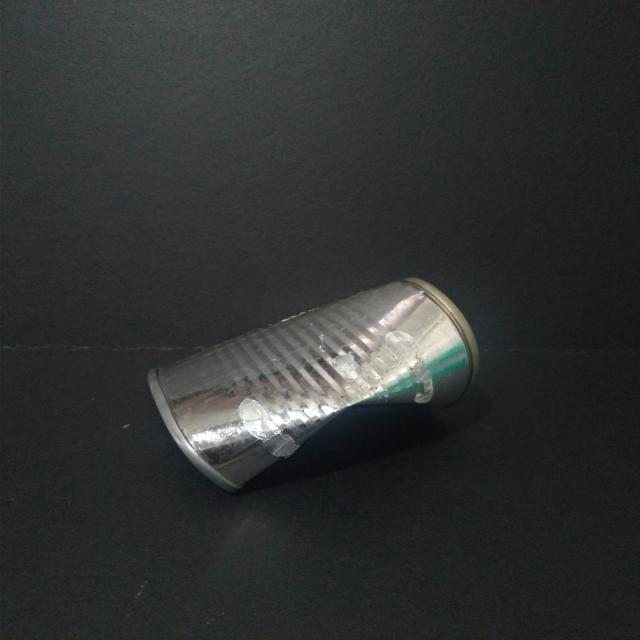Can: (145, 275, 487, 495)
